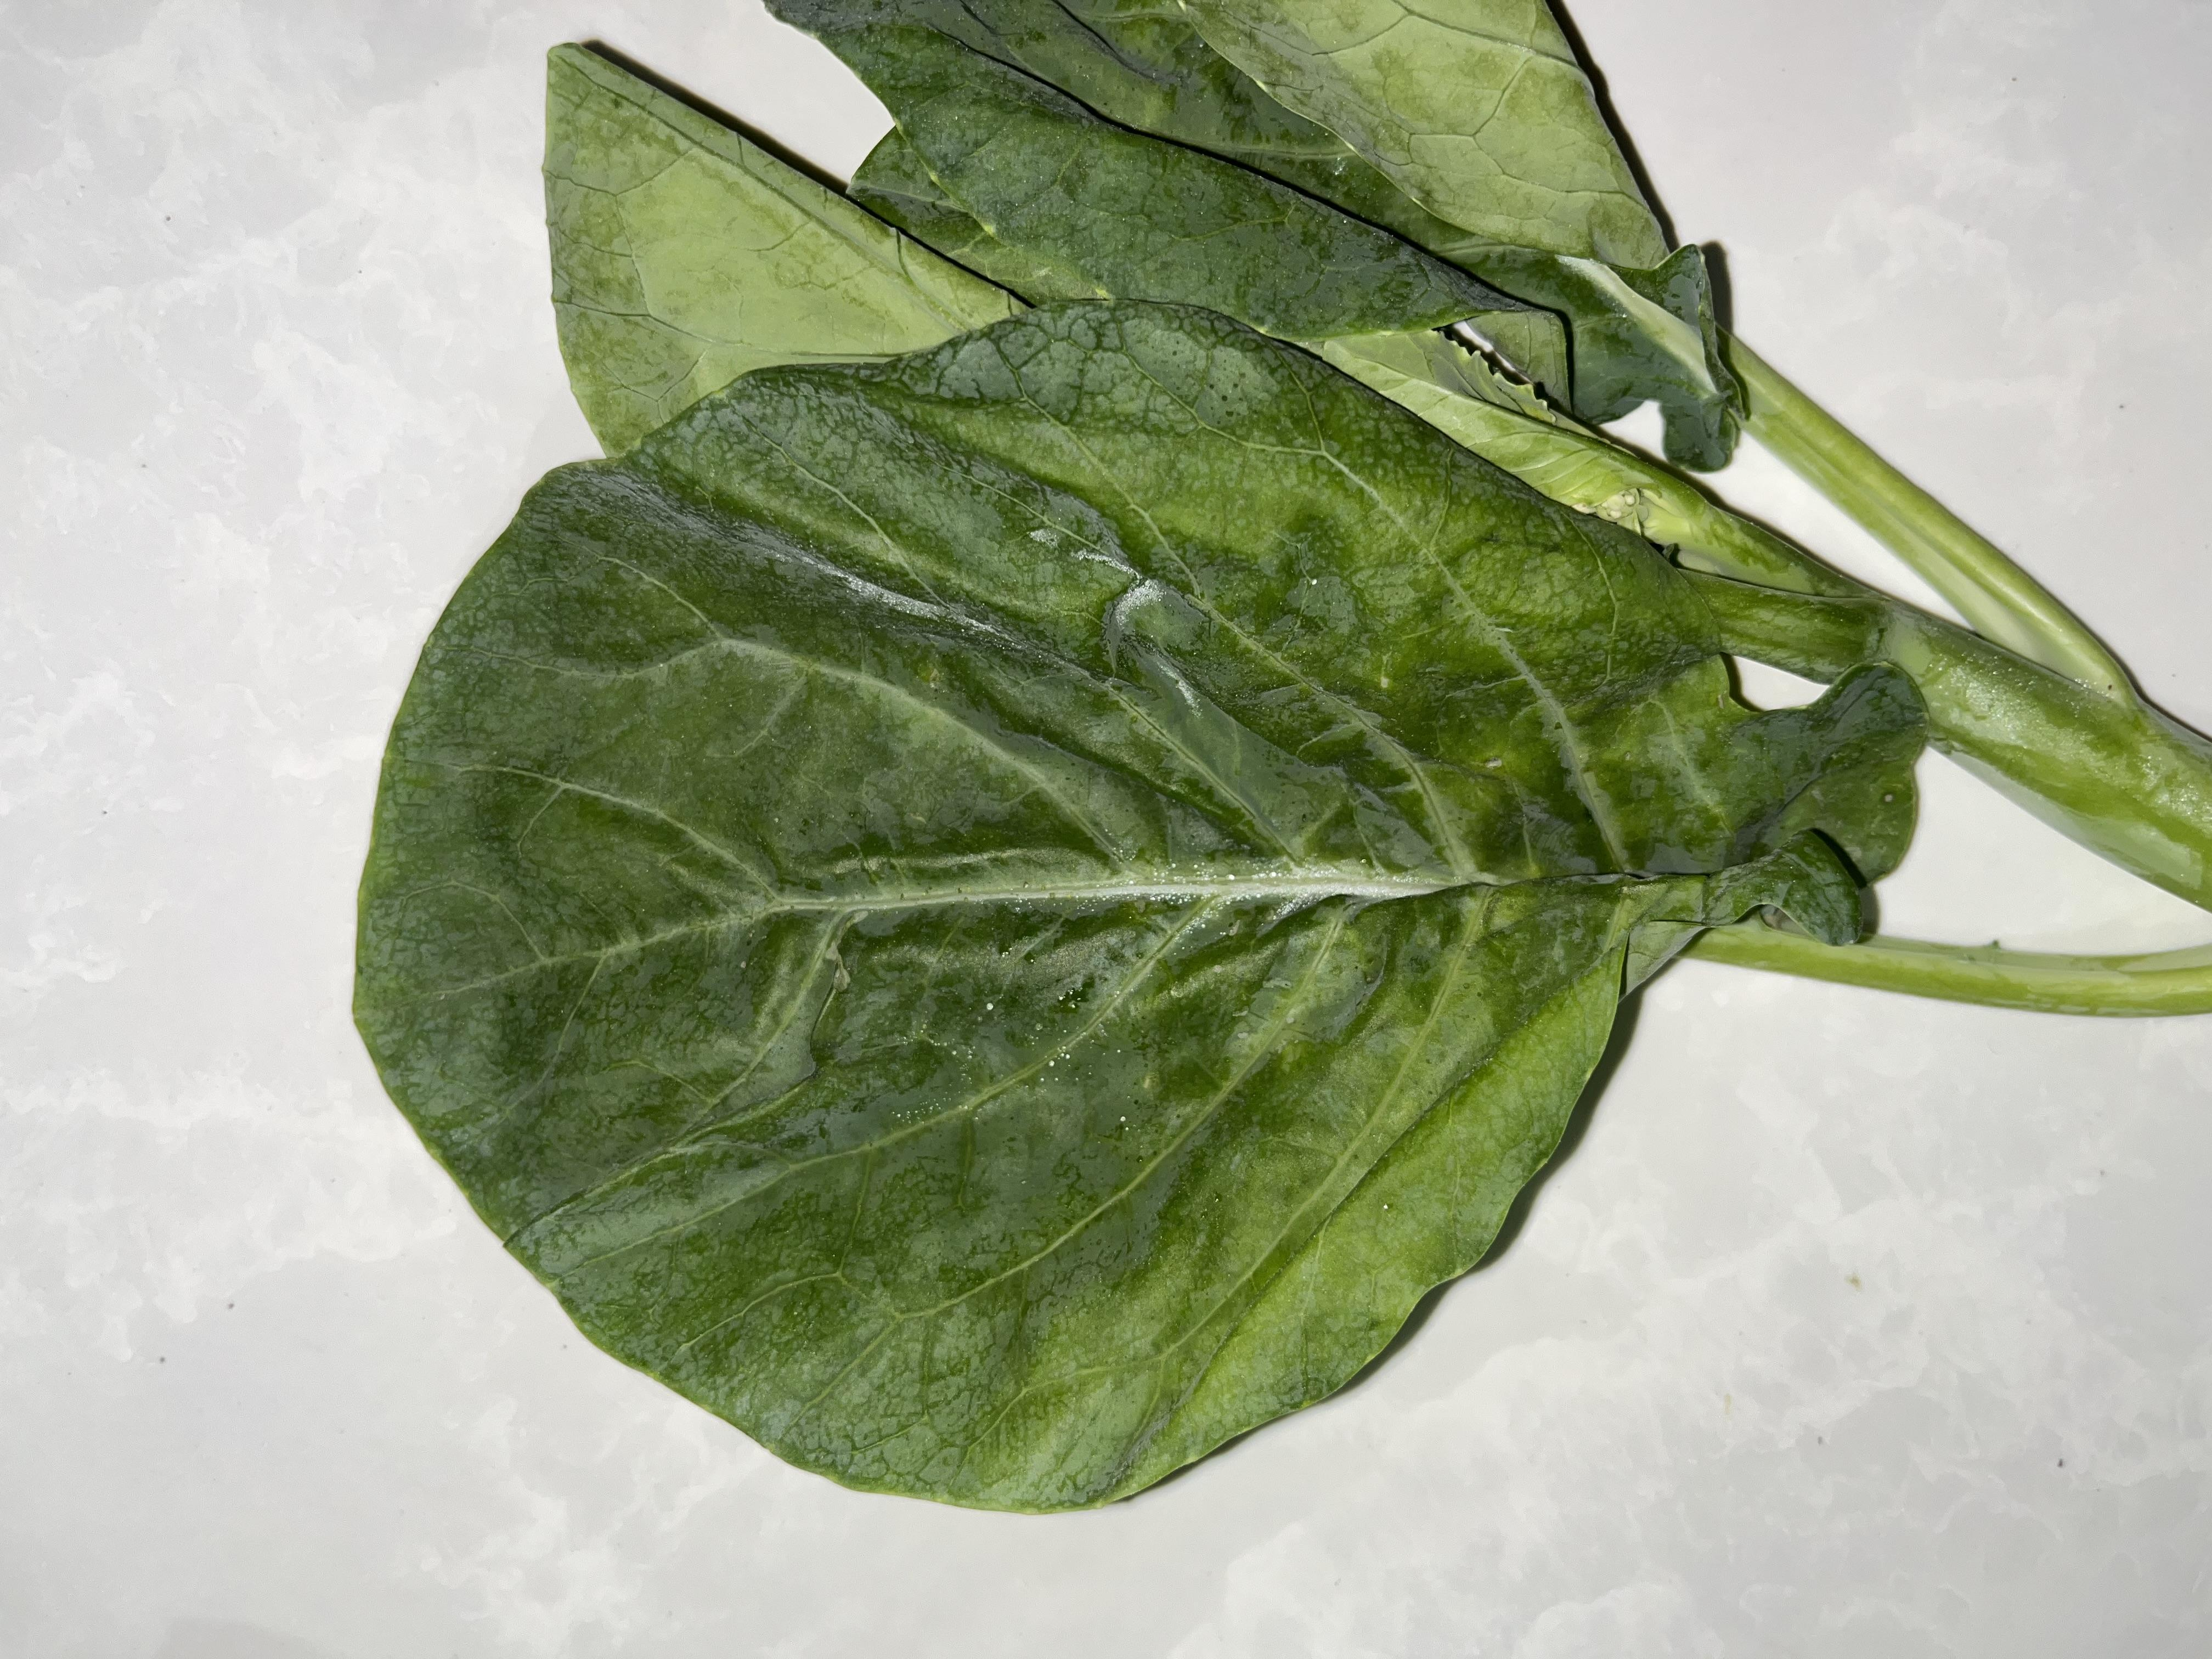Healthy-Pechay: (286, 148, 2146, 1504)
